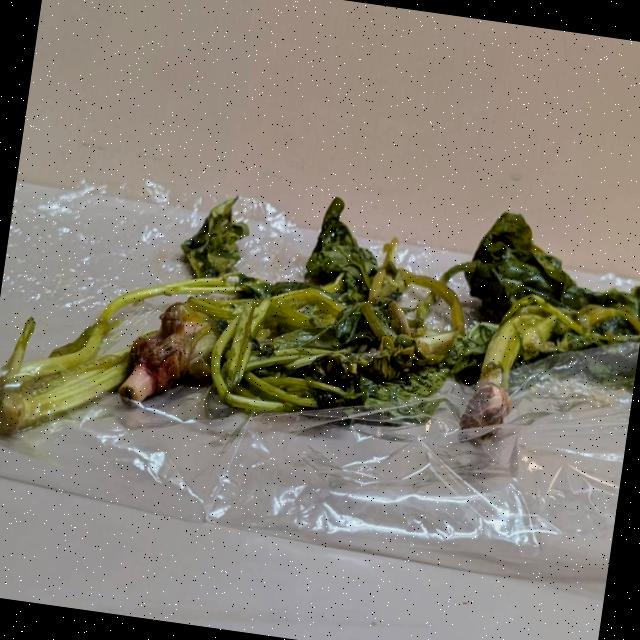rotten spinach: (0, 134, 640, 568), (194, 110, 478, 478), (370, 191, 640, 526), (0, 171, 256, 483)
